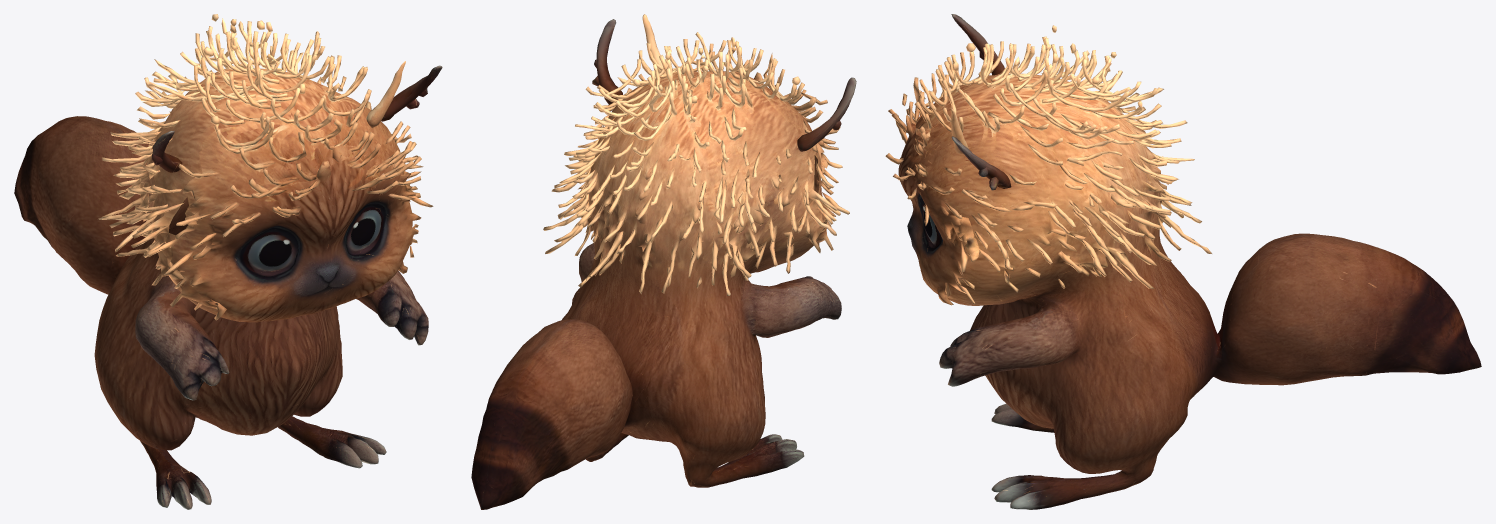
Rendered from kuriboh.glb.
3 views of the same model, side by side, from view 1: azimuth 30°, elevation 25°; view 2: azimuth 150°, elevation 25°; view 3: azimuth 270°, elevation 25° (orthographic). The views are drawn at different scales.
Bounding box in the file's own units: 1.04 × 1.52 × 1.91.
Materials: 1 (1 with a texture image).
